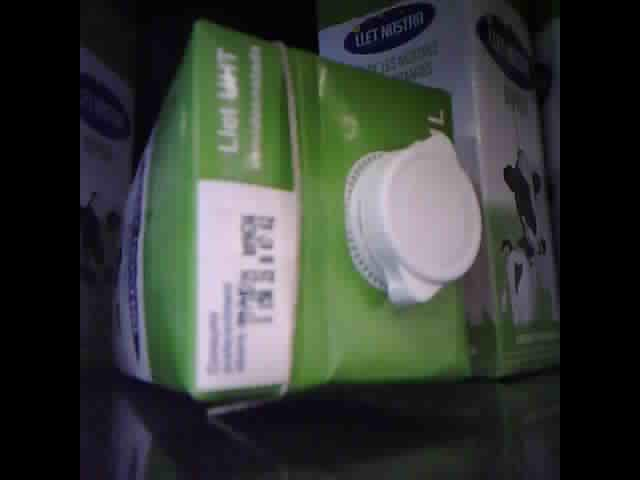leche: (113, 21, 464, 407), (318, 1, 558, 380), (83, 22, 138, 373)
